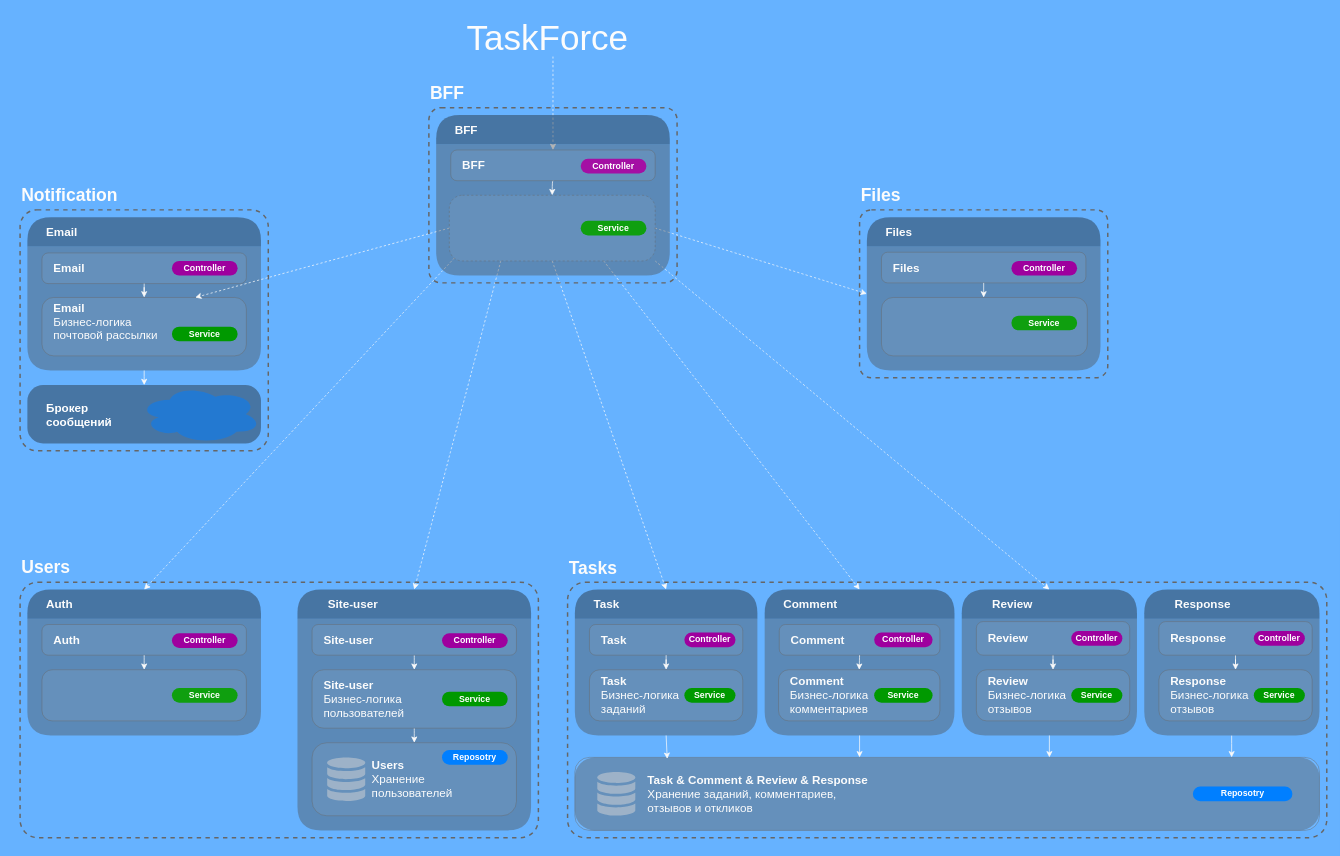
Image size: 1340x856. Some labels were removed from this diagram. Each missing label, with the centre of its shape:
Auth Бизнес-логика авторизации: pixel 143 695
BFF Взаимодействие с другими сервисами приложеня: pixel 552 228
Files Бизнес-логика сохранения изображений: pixel 984 326
Rabbit MQ: pixel 200 414
